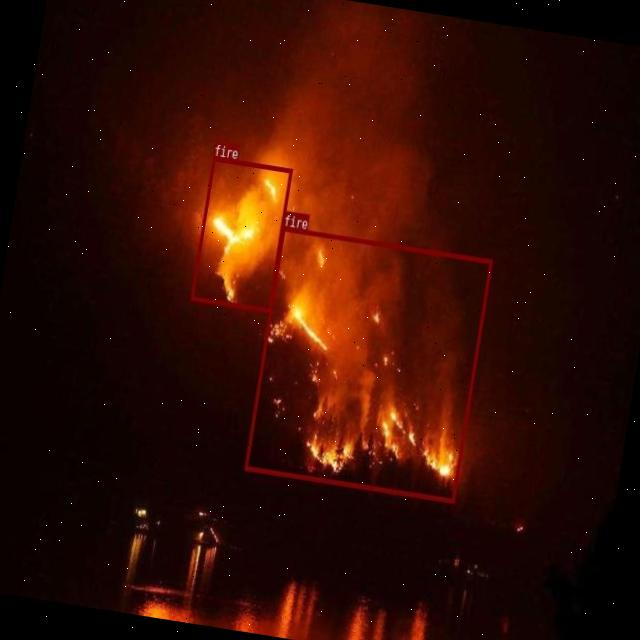fire: (243, 226, 492, 503), (190, 156, 292, 312)
